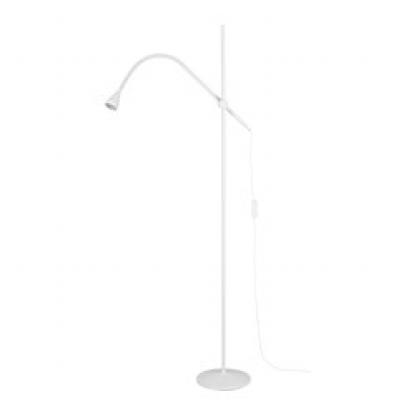Lamp: (85, 22, 266, 401)
